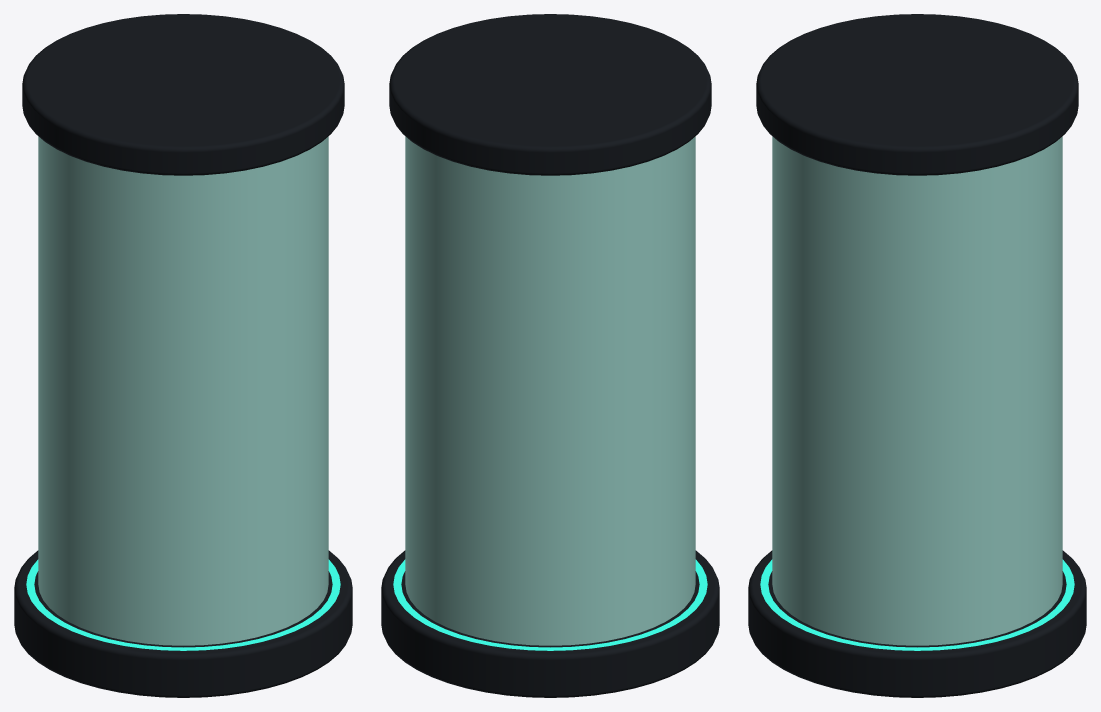
The model's file is storage.glb.
3 views of the same model, side by side, from view 1: azimuth 30°, elevation 25°; view 2: azimuth 150°, elevation 25°; view 3: azimuth 270°, elevation 25° (orthographic).
Parts seen in each view (by area): view 1: Tank_Glass, Tank_Cap, Tank_Base; view 2: Tank_Glass, Tank_Cap, Tank_Base; view 3: Tank_Glass, Tank_Cap, Tank_Base.
Boxes of the visible parts, x1,y1,x2,y2 form: Tank_Glass: [38, 136, 328, 645]; Tank_Cap: [22, 14, 344, 175]; Tank_Base: [14, 550, 352, 697]; Tank_Glass: [405, 136, 695, 645]; Tank_Cap: [389, 14, 711, 175]; Tank_Base: [381, 550, 719, 697]; Tank_Glass: [772, 136, 1062, 645]; Tank_Cap: [756, 14, 1078, 175]; Tank_Base: [748, 550, 1086, 697].
Size of the model in its own units: 0.84 by 1.5 by 0.84.
